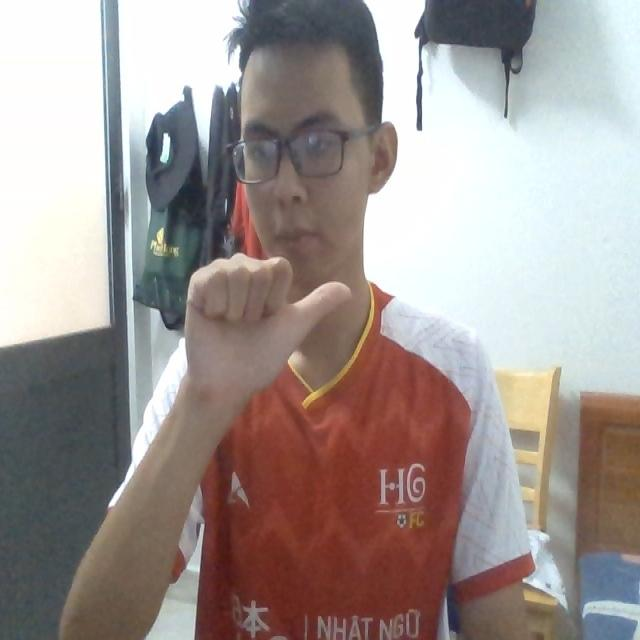A: (183, 249, 357, 406)
